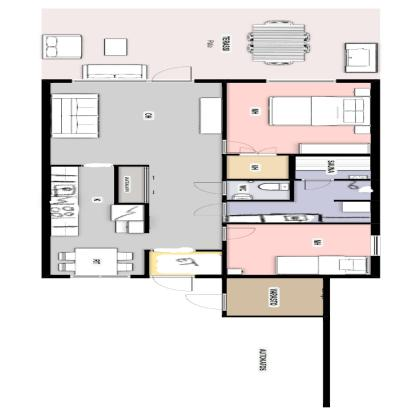door: (153, 274, 203, 295), (185, 296, 234, 310), (153, 68, 192, 85), (188, 204, 235, 218), (214, 227, 265, 239), (190, 182, 229, 194), (221, 141, 254, 153), (301, 180, 334, 188), (244, 147, 275, 155)
window: (363, 235, 385, 257), (70, 79, 143, 84), (270, 78, 334, 83), (69, 274, 131, 277)
zone: (51, 79, 220, 272), (42, 8, 372, 79), (222, 154, 380, 225), (231, 83, 370, 154), (220, 223, 367, 273), (227, 277, 326, 316), (226, 155, 292, 177), (225, 180, 289, 198)
